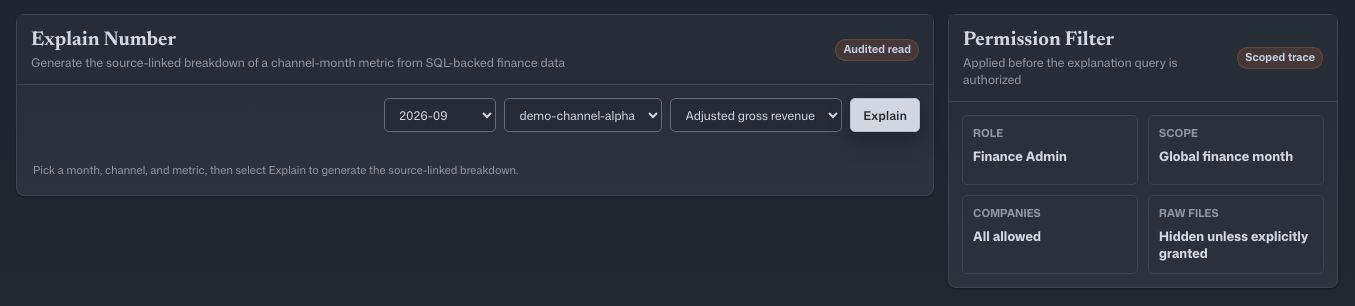
Scenario: TraceView wired to the explain endpoint › discards a stale explanation when the metric changes while the explain POST is in flight
The width and height of the screenshot is (1355, 306).
Click the button "Explain": [885, 115] box top-left (850, 98), bottom-right (920, 132)
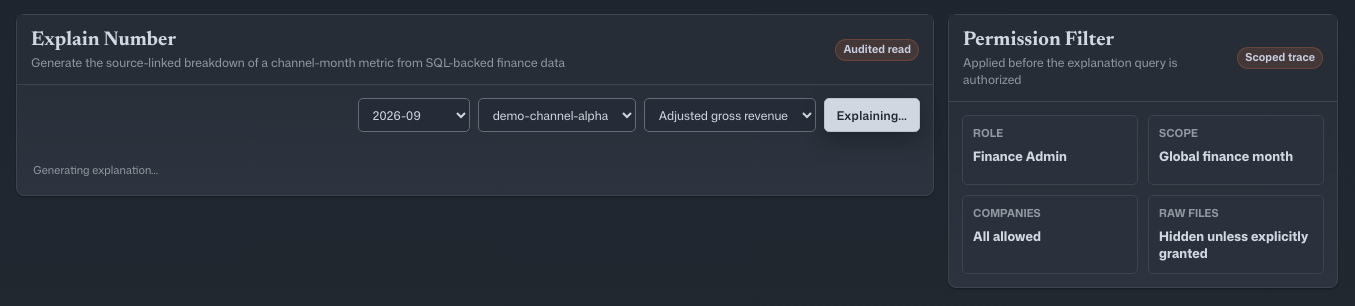
Check: the text "Generating explanation…" is shown, box top-left (33, 162), bottom-right (158, 178)
Select "Net revenue" in the dropdown named "Metric": [730, 115] box top-left (644, 98), bottom-right (816, 132)
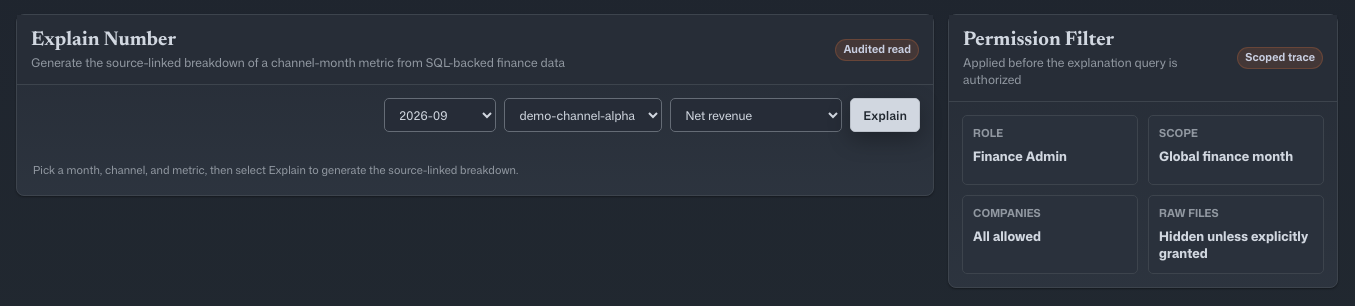
Check: the text "select Explain to generate the source-linked breakdown" is shown, box top-left (33, 162), bottom-right (518, 178)
